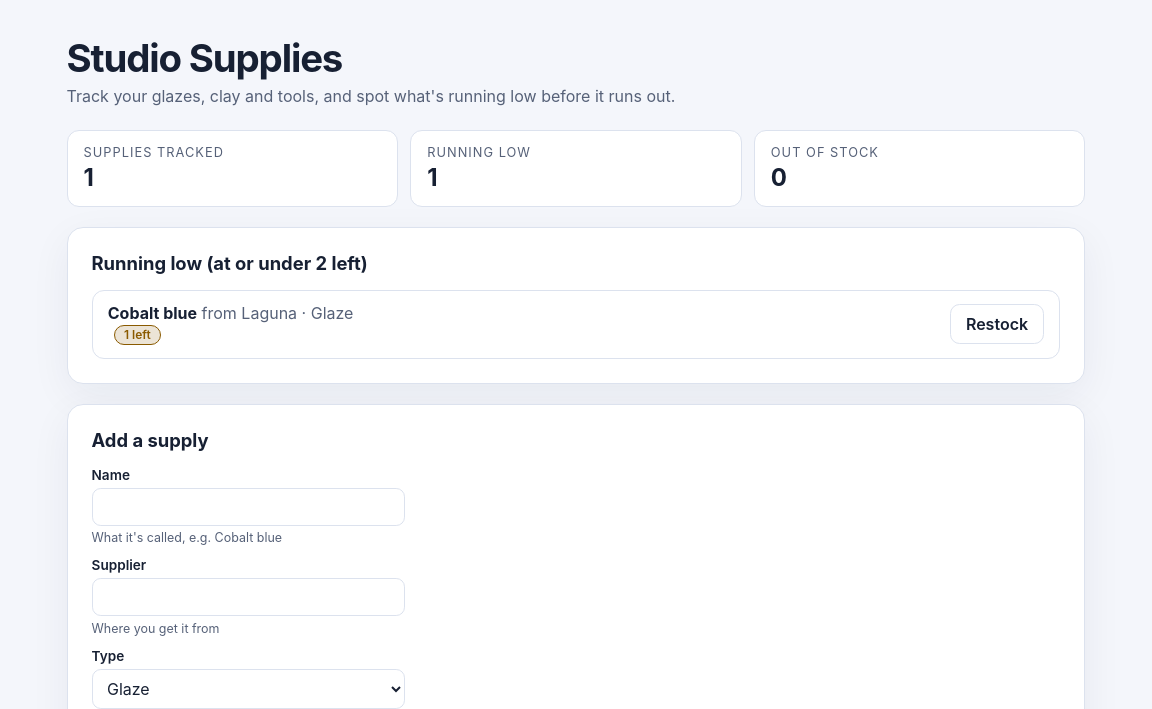
Scenario: spotting low stock › restocking from the low-stock panel clears the flag
Click the button with aria-label "Restock Cobalt blue". click: (997, 324)
box: [950,304,1044,344]
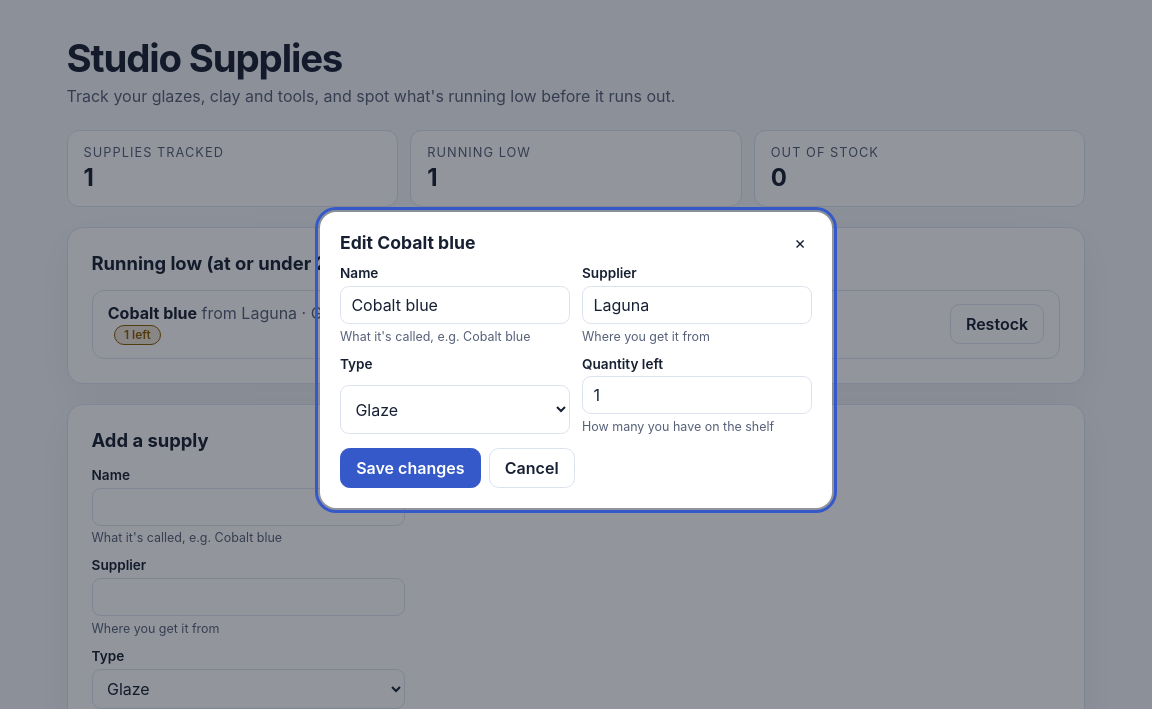
Replace the text in the field labelled "Quantity left" with "10". click: (697, 395)
box: [582,376,812,414]
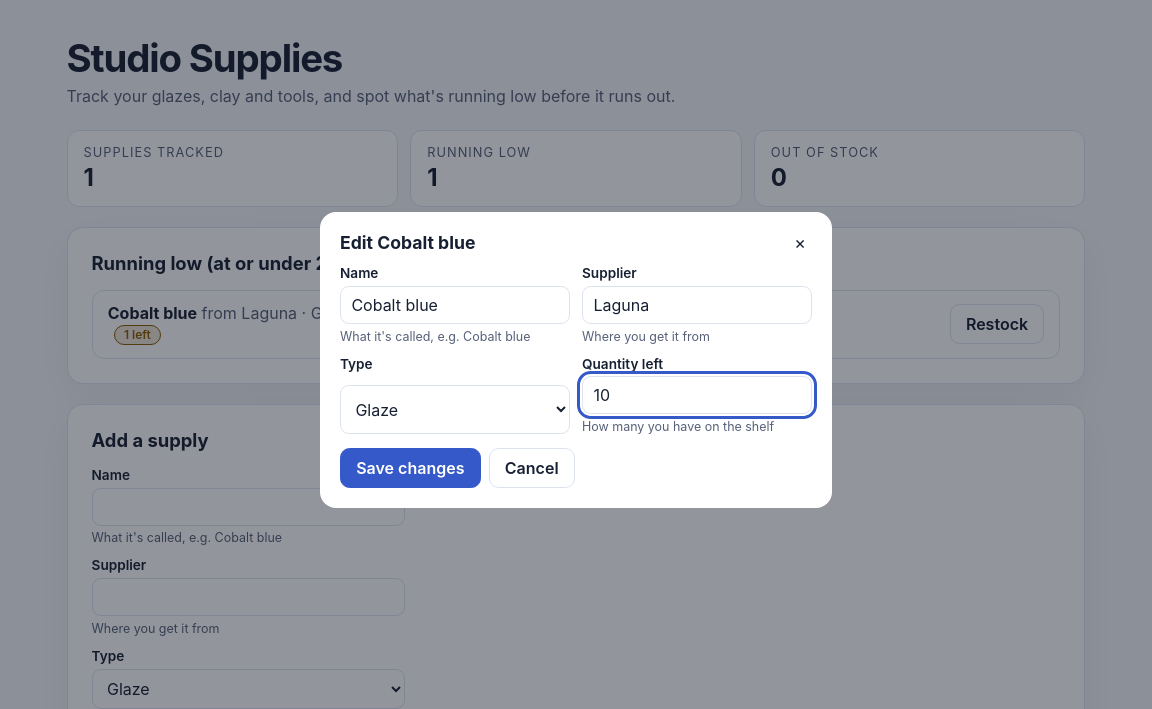
Click the button "Save changes". click: (410, 468)
box: [340,448,481,488]
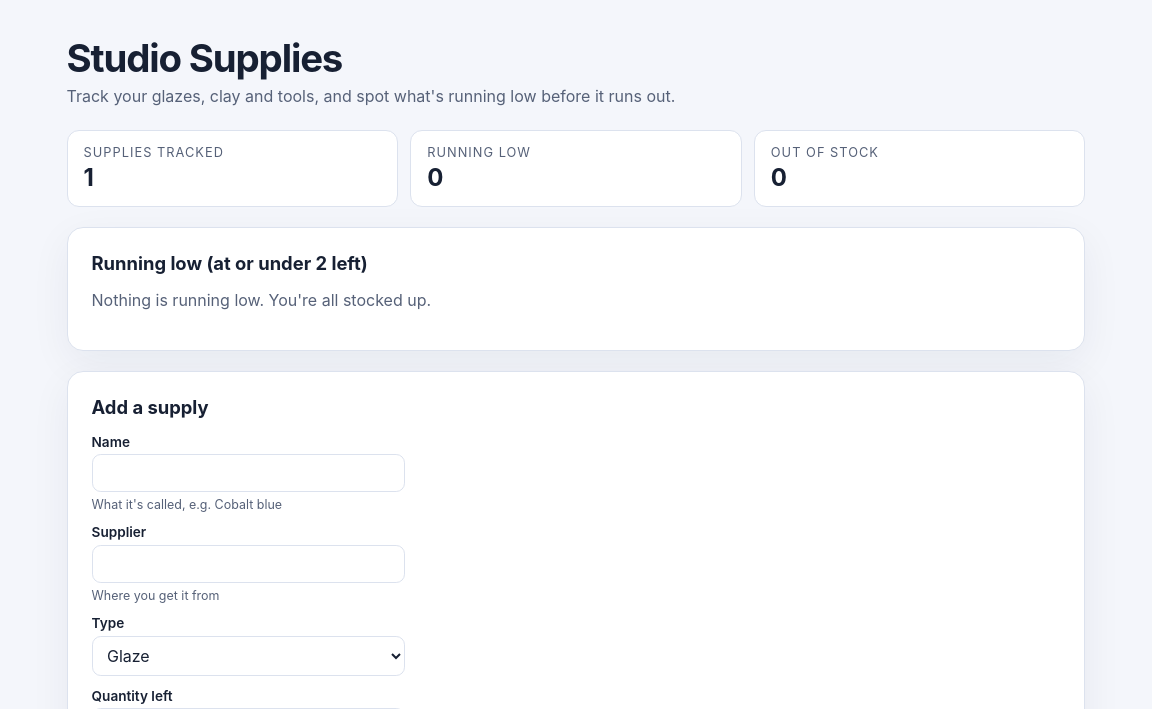
expect the table no longer shows "Low": met
expect the element "Running low" shows "Nothing is running low": met, box [92,290,431,310]
expect the text "Running low" shows "0": met, box [427,163,443,192]
